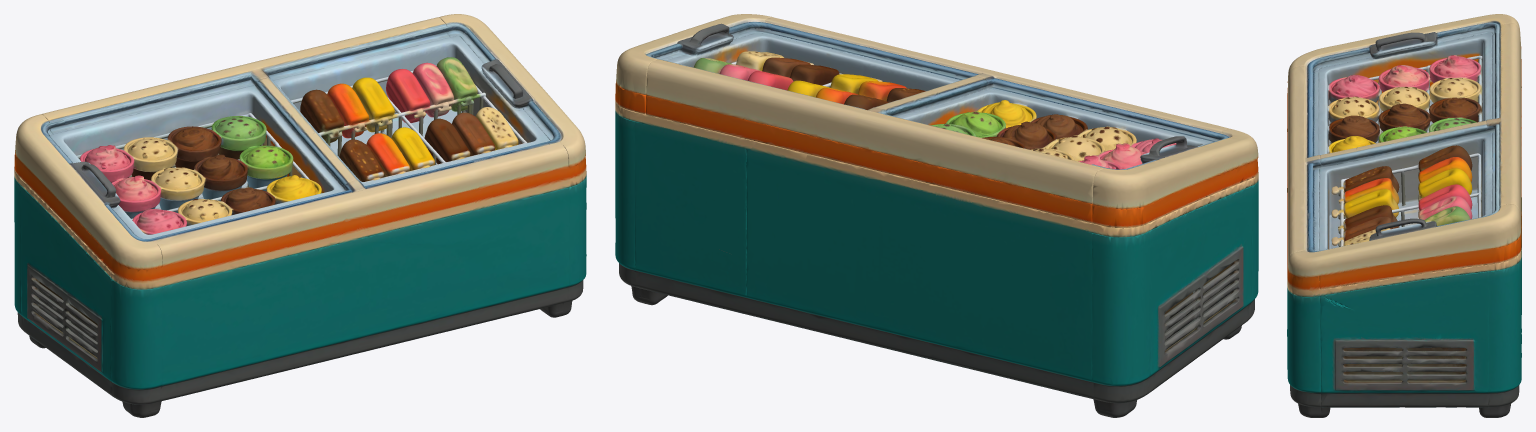
File: IceCreamFreezer.fbx
3 renders of one model, left to right at view 1: azimuth 30°, elevation 25°; view 2: azimuth 150°, elevation 25°; view 3: azimuth 270°, elevation 25°, orthographic. The views are drawn at different scales.
Visible parts, largest first — view 1: tripo_node_44c81169-6fd2-4b09-bf8e-e9fd6c2a5bda; view 2: tripo_node_44c81169-6fd2-4b09-bf8e-e9fd6c2a5bda; view 3: tripo_node_44c81169-6fd2-4b09-bf8e-e9fd6c2a5bda.
Part boxes in pixels (<box>): tripo_node_44c81169-6fd2-4b09-bf8e-e9fd6c2a5bda: <box>14,14,586,417</box>; tripo_node_44c81169-6fd2-4b09-bf8e-e9fd6c2a5bda: <box>615,14,1258,417</box>; tripo_node_44c81169-6fd2-4b09-bf8e-e9fd6c2a5bda: <box>1287,14,1521,417</box>.
Bounding box in the file's own units: 98.06 × 43.69 × 45.16.
